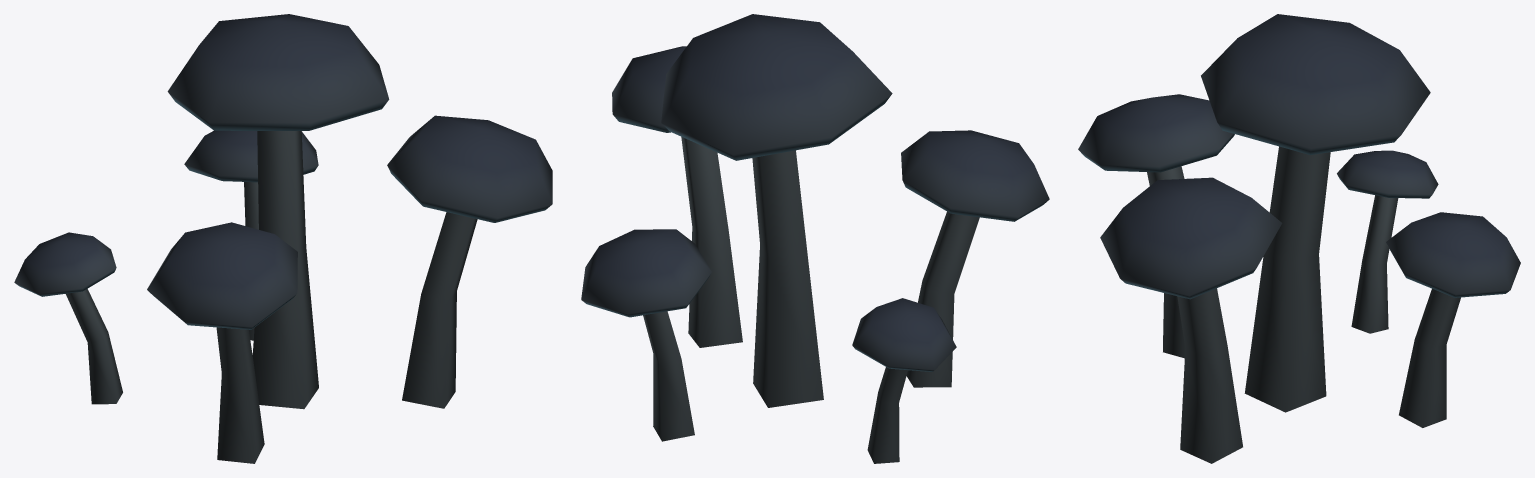
The model's file is mushrooms_lod1.glb.
3 views of the same model, side by side, from view 1: azimuth 30°, elevation 25°; view 2: azimuth 150°, elevation 25°; view 3: azimuth 270°, elevation 25° (orthographic).
Visible parts, largest first — view 1: mushrooms_lod1; view 2: mushrooms_lod1; view 3: mushrooms_lod1.
Boxes of the visible parts, <box> form: mushrooms_lod1: <box>14,14,552,463</box>; mushrooms_lod1: <box>581,14,1049,463</box>; mushrooms_lod1: <box>1078,14,1520,463</box>.
Size of the model in its own units: 0.4753 by 0.3856 by 0.4197.
